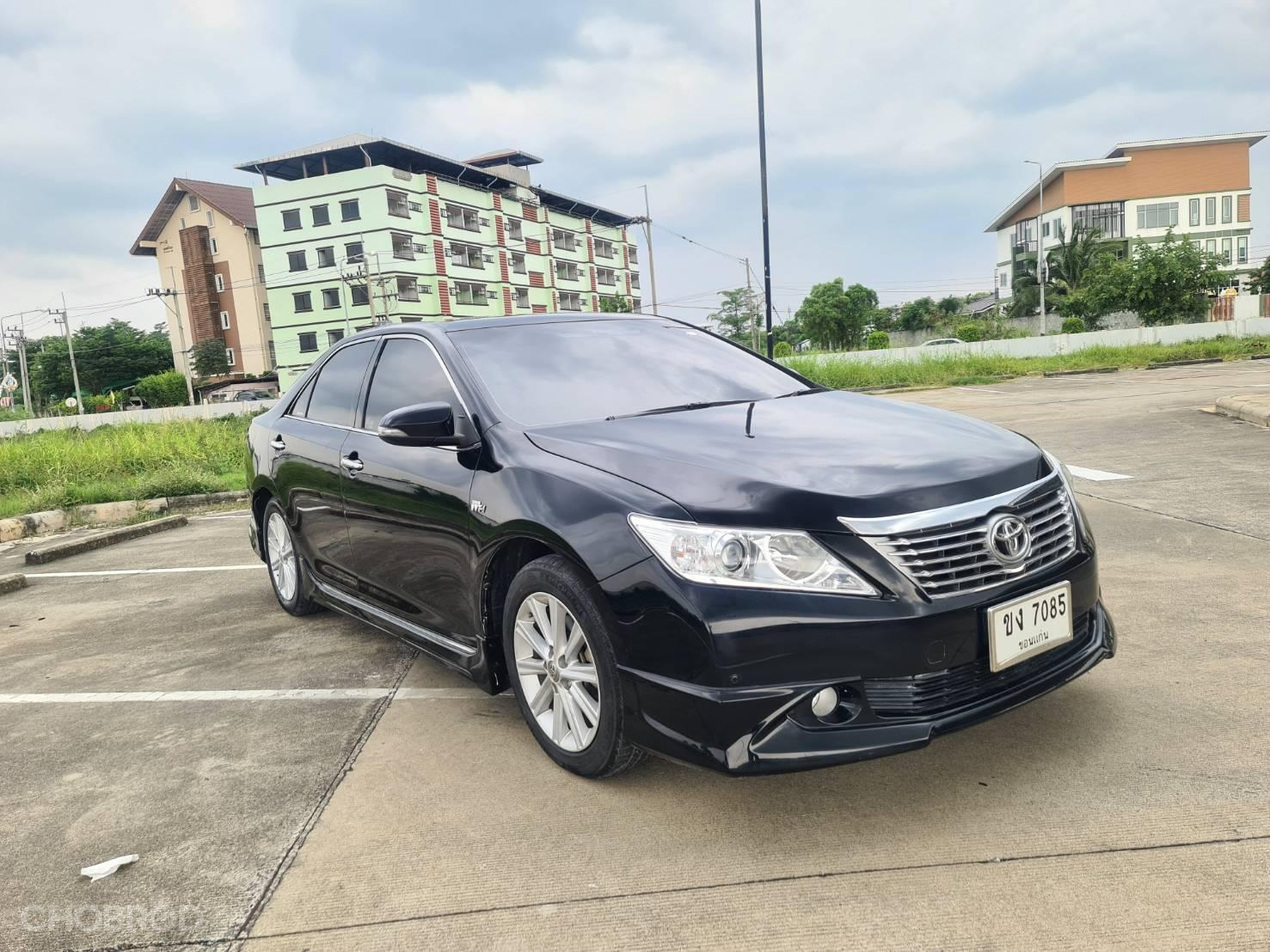license-plate: (979, 576, 1081, 677)
